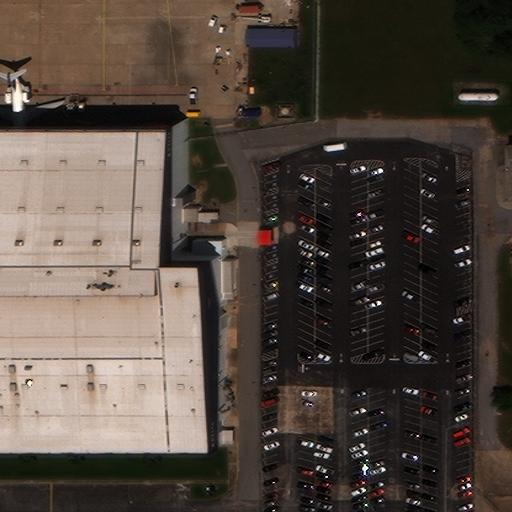Medium Civil Transport: (0, 66, 65, 147)
